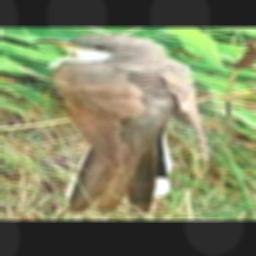Cuckoo: (31, 34, 199, 210)
